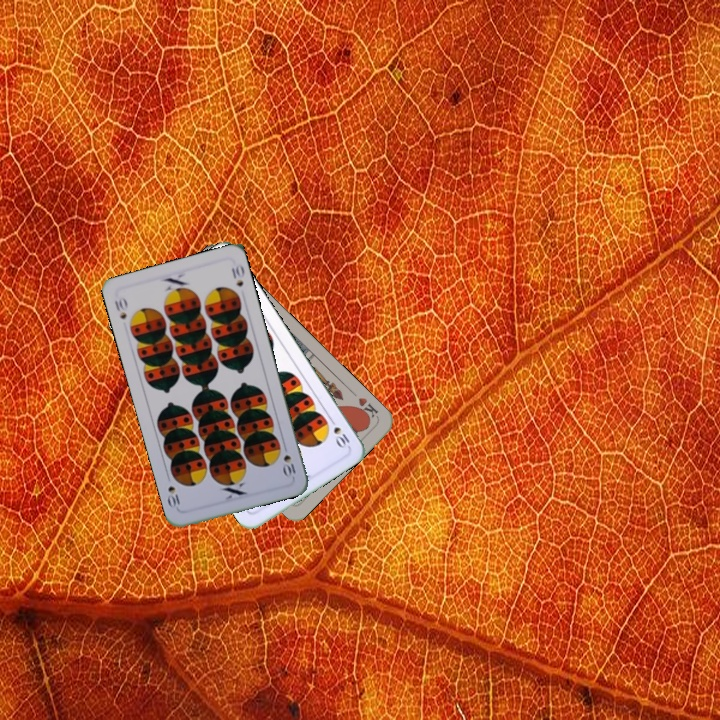HK: (352, 394, 381, 423)
S10: (325, 413, 352, 451), (110, 293, 130, 322), (279, 451, 298, 480)
